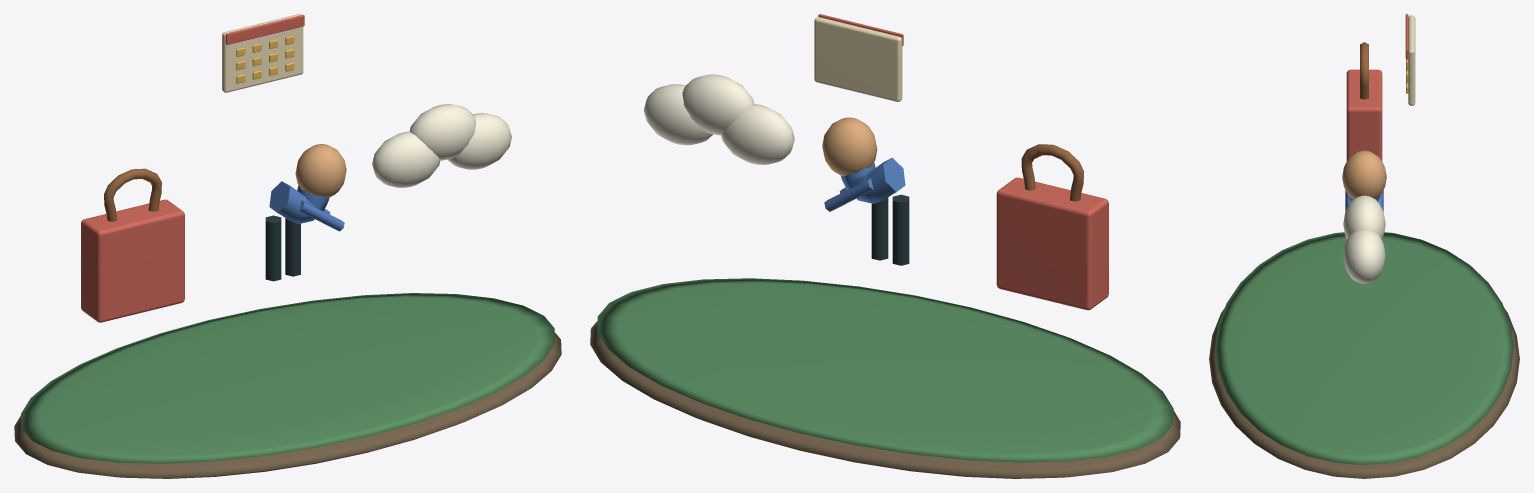
Rendered from complete-third-courtesy-bow-sky.glb.
3 views of the same model, side by side, from view 1: azimuth 30°, elevation 25°; view 2: azimuth 150°, elevation 25°; view 3: azimuth 270°, elevation 25° (orthographic). The views are drawn at different scales.
Parts seen in each view (by area): view 1: complete-third-courtesy-bow-sky_surface_01, complete-third-courtesy-bow-sky_surface_02, complete-third-courtesy-bow-sky_surface_00, complete-third-courtesy-bow-sky_surface_07, complete-third-courtesy-bow-sky_surface_08, complete-third-courtesy-bow-sky_surface_04, complete-third-courtesy-bow-sky_surface_06, complete-third-courtesy-bow-sky_surface_05, complete-third-courtesy-bow-sky_surface_03, complete-third-courtesy-bow-sky_surface_09; view 2: complete-third-courtesy-bow-sky_surface_01, complete-third-courtesy-bow-sky_surface_02, complete-third-courtesy-bow-sky_surface_00, complete-third-courtesy-bow-sky_surface_07, complete-third-courtesy-bow-sky_surface_08, complete-third-courtesy-bow-sky_surface_04, complete-third-courtesy-bow-sky_surface_06, complete-third-courtesy-bow-sky_surface_05, complete-third-courtesy-bow-sky_surface_03; view 3: complete-third-courtesy-bow-sky_surface_01, complete-third-courtesy-bow-sky_surface_00, complete-third-courtesy-bow-sky_surface_07, complete-third-courtesy-bow-sky_surface_02, complete-third-courtesy-bow-sky_surface_04, complete-third-courtesy-bow-sky_surface_08, complete-third-courtesy-bow-sky_surface_03.
Part boxes in pixels (x1,y1,x2,y2): complete-third-courtesy-bow-sky_surface_01: (21, 293, 554, 463); complete-third-courtesy-bow-sky_surface_02: (81, 14, 304, 322); complete-third-courtesy-bow-sky_surface_00: (14, 333, 561, 478); complete-third-courtesy-bow-sky_surface_07: (372, 104, 511, 187); complete-third-courtesy-bow-sky_surface_08: (222, 14, 303, 92); complete-third-courtesy-bow-sky_surface_04: (295, 144, 346, 198); complete-third-courtesy-bow-sky_surface_06: (265, 215, 300, 281); complete-third-courtesy-bow-sky_surface_05: (269, 181, 344, 231); complete-third-courtesy-bow-sky_surface_03: (104, 168, 161, 221); complete-third-courtesy-bow-sky_surface_09: (236, 35, 294, 83); complete-third-courtesy-bow-sky_surface_01: (597, 278, 1173, 462); complete-third-courtesy-bow-sky_surface_02: (818, 14, 1108, 310); complete-third-courtesy-bow-sky_surface_00: (590, 321, 1180, 478); complete-third-courtesy-bow-sky_surface_07: (643, 74, 794, 164); complete-third-courtesy-bow-sky_surface_08: (814, 17, 902, 101); complete-third-courtesy-bow-sky_surface_04: (822, 117, 877, 176); complete-third-courtesy-bow-sky_surface_06: (871, 194, 909, 265); complete-third-courtesy-bow-sky_surface_05: (824, 157, 905, 211); complete-third-courtesy-bow-sky_surface_03: (1021, 144, 1083, 201); complete-third-courtesy-bow-sky_surface_01: (1215, 232, 1513, 464); complete-third-courtesy-bow-sky_surface_00: (1209, 308, 1519, 478); complete-third-courtesy-bow-sky_surface_07: (1343, 195, 1385, 283); complete-third-courtesy-bow-sky_surface_02: (1346, 14, 1408, 161); complete-third-courtesy-bow-sky_surface_04: (1342, 150, 1386, 199); complete-third-courtesy-bow-sky_surface_08: (1408, 15, 1415, 105); complete-third-courtesy-bow-sky_surface_03: (1360, 42, 1368, 99).
Size of the model in its own units: 4.56 by 3.04 by 2.5.
